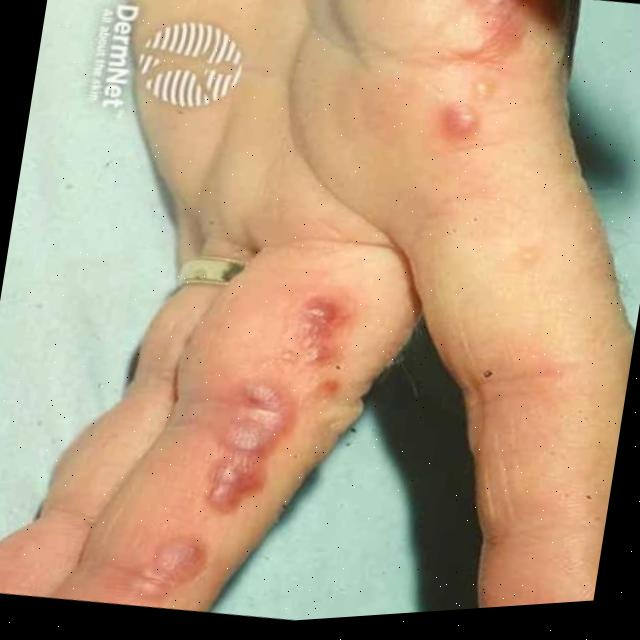Eczema: (138, 319, 353, 628), (420, 0, 550, 154)
